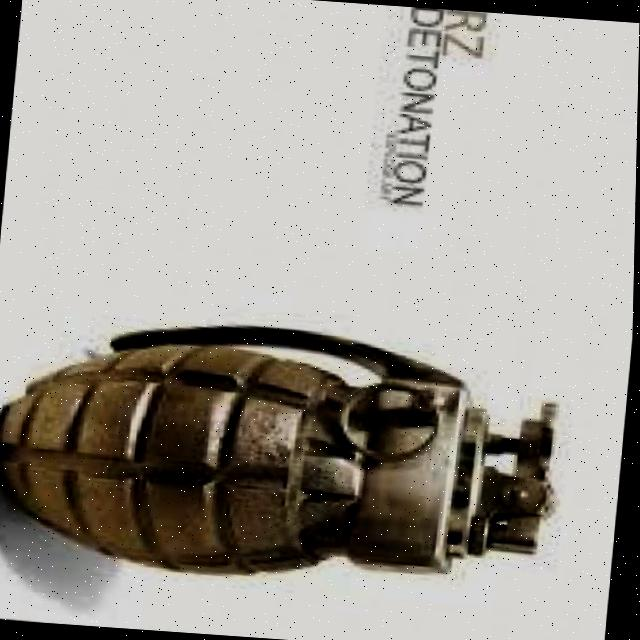grenade: (0, 304, 583, 605)
